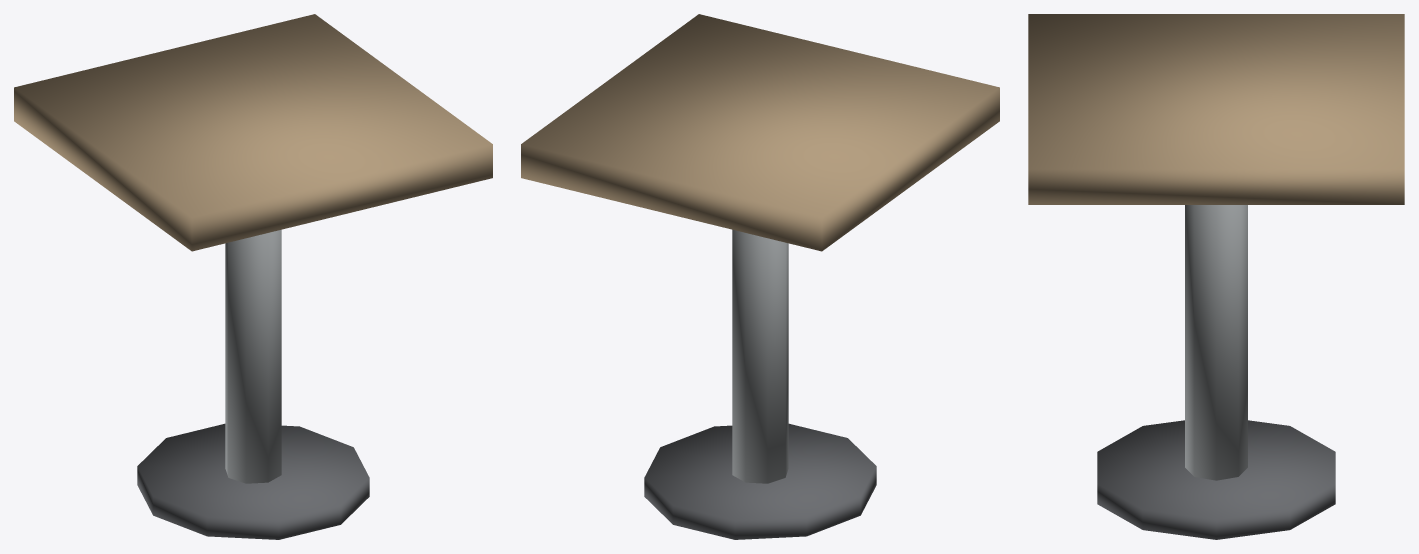
File: diner_two_top__compact.glb
3 renders of one model, left to right at view 1: azimuth 30°, elevation 25°; view 2: azimuth 150°, elevation 25°; view 3: azimuth 270°, elevation 25°, orthographic. The views are drawn at different scales.
Parts seen in each view (by area): view 1: world; view 2: world; view 3: world.
Part boxes in pixels (left/top/right/bottom): world: left=14, top=14, right=492, bottom=539; world: left=521, top=14, right=999, bottom=539; world: left=1028, top=14, right=1404, bottom=539.
Size of the model in its own units: 0.6048 by 0.7207 by 0.6192.
